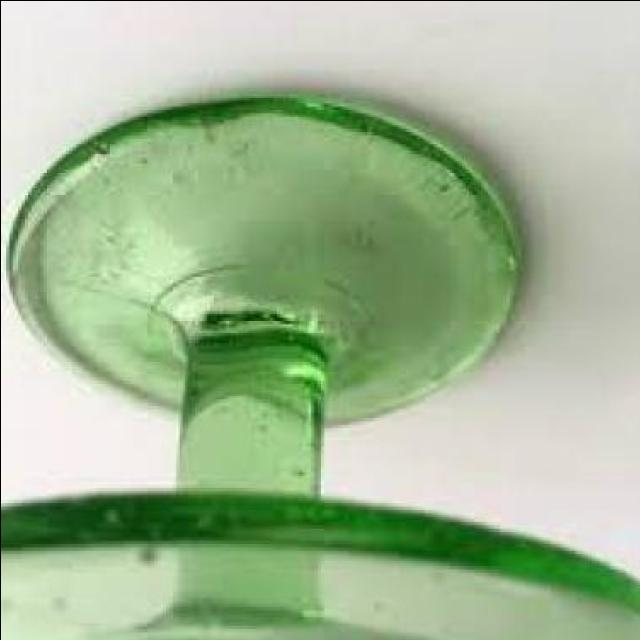kaca: (0, 96, 640, 640)
